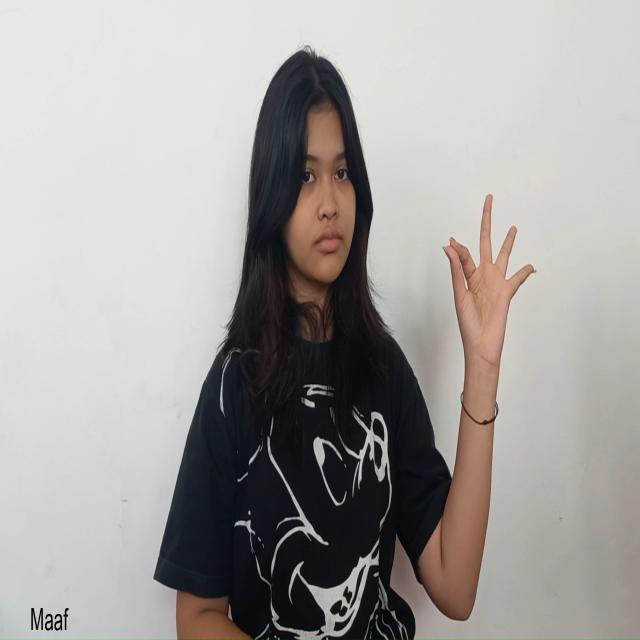Maaf -BISINDO-: (440, 190, 538, 391)
